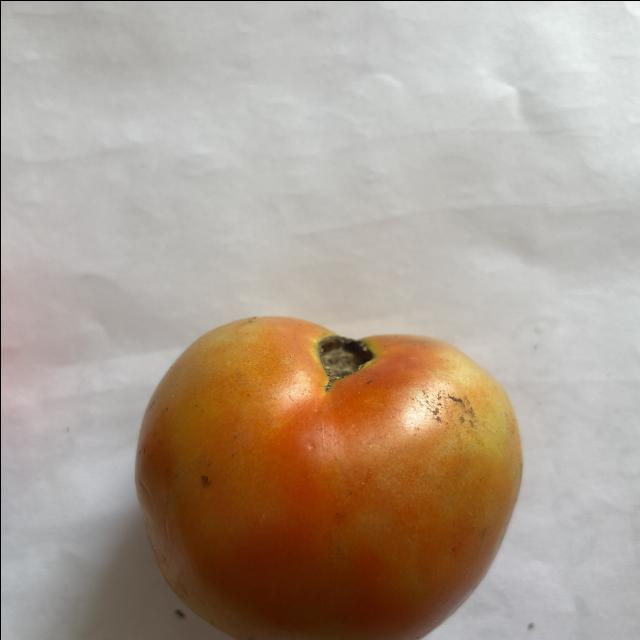fruitworm_bore: (304, 318, 380, 392)
